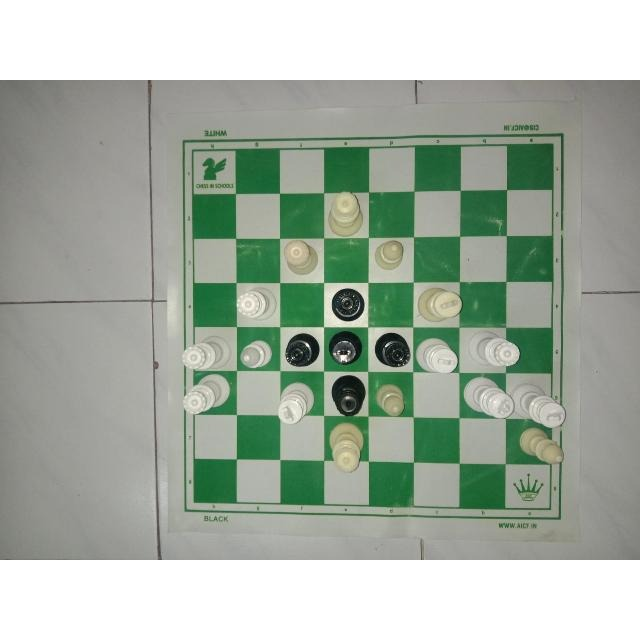black-king: (325, 329, 367, 369)
black-queen: (325, 374, 367, 416), (324, 284, 368, 324), (372, 329, 413, 370), (282, 327, 320, 369)
white-bishop: (517, 426, 567, 466), (368, 237, 409, 278), (371, 380, 410, 419), (234, 335, 274, 372)
white-king: (513, 383, 568, 427), (460, 377, 514, 421), (415, 284, 464, 324), (414, 334, 462, 373), (276, 378, 315, 425)
white-queen: (180, 372, 234, 418), (325, 418, 369, 474), (467, 328, 523, 370), (321, 188, 366, 237), (180, 333, 230, 370), (280, 237, 322, 279), (234, 286, 278, 324)
